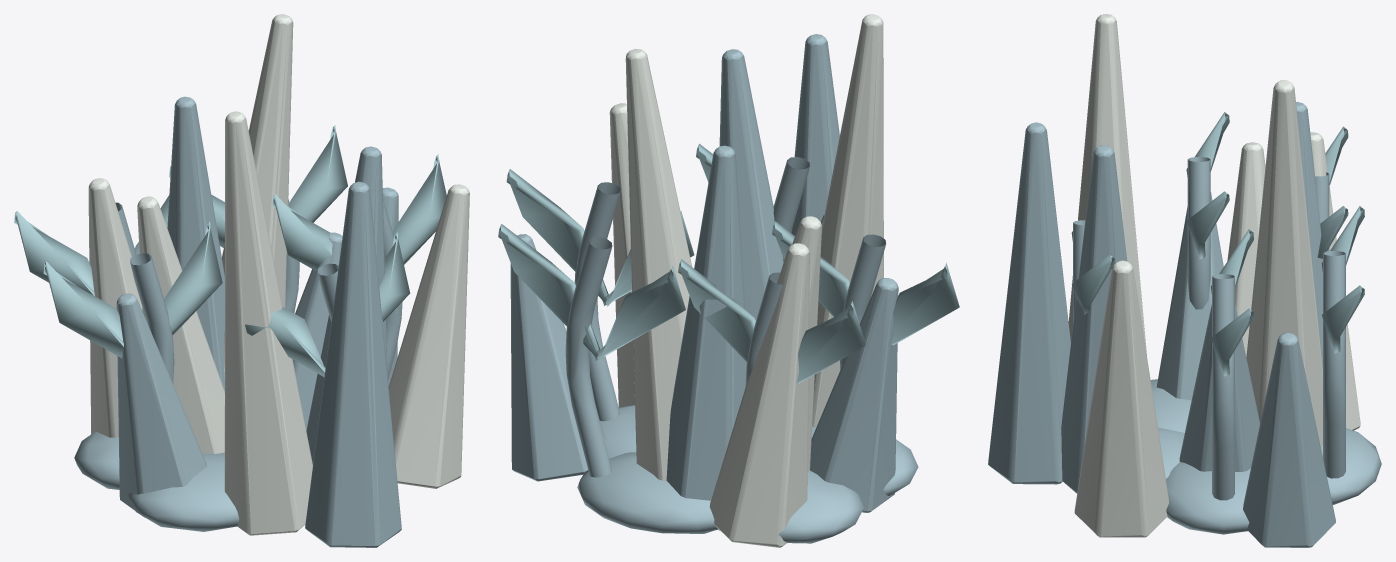
Rendered from bio_crystal_fan_12_far.glb.
3 renders of one model, left to right at view 1: azimuth 30°, elevation 25°; view 2: azimuth 150°, elevation 25°; view 3: azimuth 270°, elevation 25°, orthographic. The views are drawn at different scales.
Visible parts, largest first — view 1: Reflecting mineral prism.007, Reflecting mineral prism.002, Reflecting mineral prism.005, Reflecting mineral prism.004, Reflecting mineral prism.009, Reflecting mineral prism.006, Reflecting mineral prism.003, Reflecting mineral prism.001, Mineral substrate, Secondary fan lobe.008, Secondary fan lobe, Secondary fan lobe.004 (+9 smaller); view 2: Reflecting mineral prism.001, Reflecting mineral prism.006, Reflecting mineral prism.003, Mineral substrate, Reflecting mineral prism.004, Reflecting mineral prism.007, Reflecting mineral prism.008, Reflecting mineral prism.010, Secondary fan lobe.006, Reflecting mineral prism.002, Branching support.003, Secondary fan lobe.002 (+8 smaller); view 3: Reflecting mineral prism.002, Reflecting mineral prism.005, Reflecting mineral prism.003, Reflecting mineral prism.008, Reflecting mineral prism.010, Mineral substrate, Reflecting mineral prism.007, Reflecting mineral prism, Reflecting mineral prism.004, Branching support, Branching support.003, Reflecting mineral prism.009 (+10 smaller).
Part boxes in pixels (bbox=[...]): Reflecting mineral prism.007: bbox=[224, 111, 312, 535]; Reflecting mineral prism.002: bbox=[305, 181, 401, 547]; Reflecting mineral prism.005: bbox=[388, 184, 469, 488]; Reflecting mineral prism.004: bbox=[116, 293, 206, 517]; Reflecting mineral prism.009: bbox=[137, 196, 224, 453]; Reflecting mineral prism.006: bbox=[167, 96, 224, 390]; Reflecting mineral prism.003: bbox=[222, 14, 293, 377]; Reflecting mineral prism.001: bbox=[88, 178, 142, 437]; Mineral substrate: bbox=[74, 432, 239, 531]; Secondary fan lobe.008: bbox=[43, 222, 222, 358]; Secondary fan lobe: bbox=[272, 154, 446, 270]; Secondary fan lobe.004: bbox=[245, 232, 410, 377]; Reflecting mineral prism.001: bbox=[709, 243, 809, 547]; Reflecting mineral prism.006: bbox=[666, 145, 746, 500]; Reflecting mineral prism.003: bbox=[625, 48, 692, 480]; Mineral substrate: bbox=[577, 405, 918, 543]; Reflecting mineral prism.004: bbox=[810, 278, 898, 512]; Reflecting mineral prism.007: bbox=[812, 14, 883, 426]; Reflecting mineral prism.008: bbox=[510, 234, 606, 481]; Reflecting mineral prism.010: bbox=[719, 49, 783, 320]; Secondary fan lobe.006: bbox=[498, 224, 685, 361]; Reflecting mineral prism.002: bbox=[791, 34, 839, 235]; Branching support.003: bbox=[565, 237, 612, 477]; Secondary fan lobe.002: bbox=[678, 259, 865, 383]; Reflecting mineral prism.002: bbox=[988, 122, 1070, 484]; Reflecting mineral prism.005: bbox=[1074, 260, 1168, 537]; Reflecting mineral prism.003: bbox=[1246, 80, 1322, 446]; Reflecting mineral prism.008: bbox=[1243, 333, 1335, 547]; Reflecting mineral prism.010: bbox=[1061, 145, 1127, 493]; Mineral substrate: bbox=[1150, 379, 1381, 534]; Reflecting mineral prism.007: bbox=[1068, 14, 1146, 354]; Reflecting mineral prism: bbox=[1179, 304, 1260, 471]; Reflecting mineral prism.004: bbox=[1156, 192, 1223, 400]; Branching support: bbox=[1212, 274, 1234, 500]; Branching support.003: bbox=[1323, 251, 1345, 478]; Reflecting mineral prism.009: bbox=[1227, 142, 1265, 356].
Bounding box in the file's own units: 1.85 × 1.85 × 1.55.
